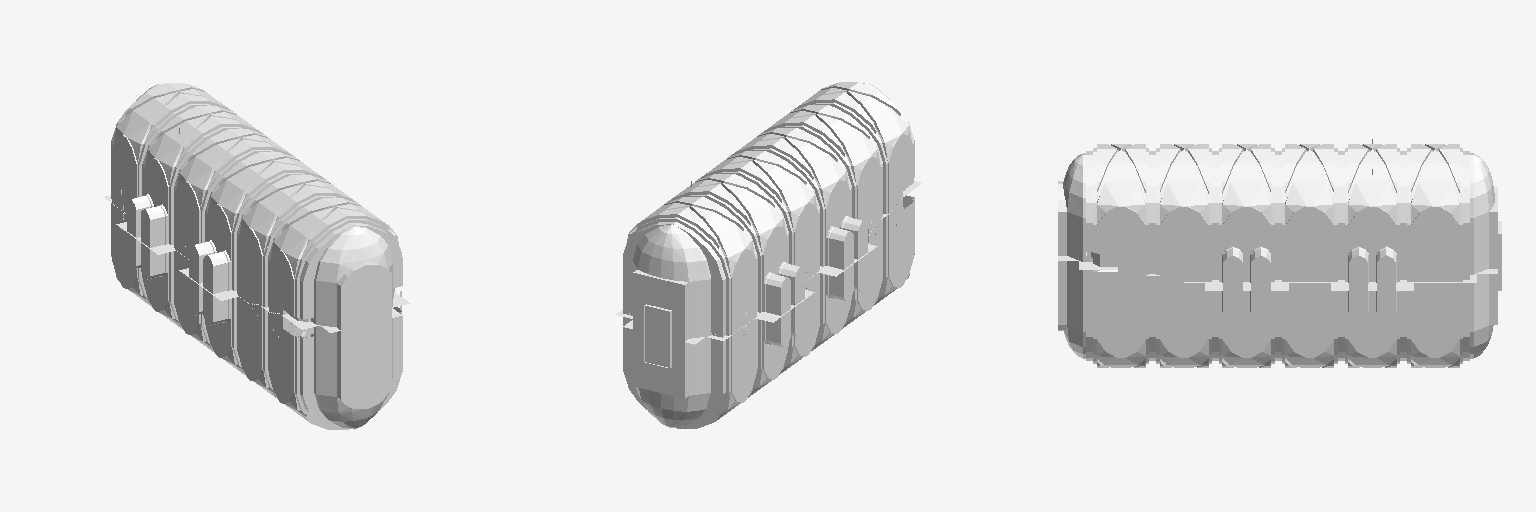
3 renders of one model, left to right at view 1: azimuth 30°, elevation 25°; view 2: azimuth 150°, elevation 25°; view 3: azimuth 270°, elevation 25°, orthographic.
Visible parts, largest first — view 1: body; view 2: body; view 3: body.
Boxes of the visible parts, <box> form: body: <box>104,83,410,429</box>; body: <box>616,82,921,428</box>; body: <box>1058,139,1501,367</box>.
Bounding box in the file's own units: 23.99 × 33.96 × 63.49.